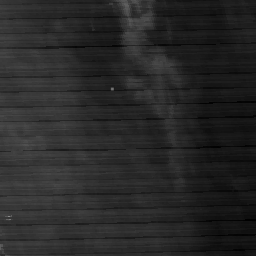Target: (109, 86, 114, 92)
